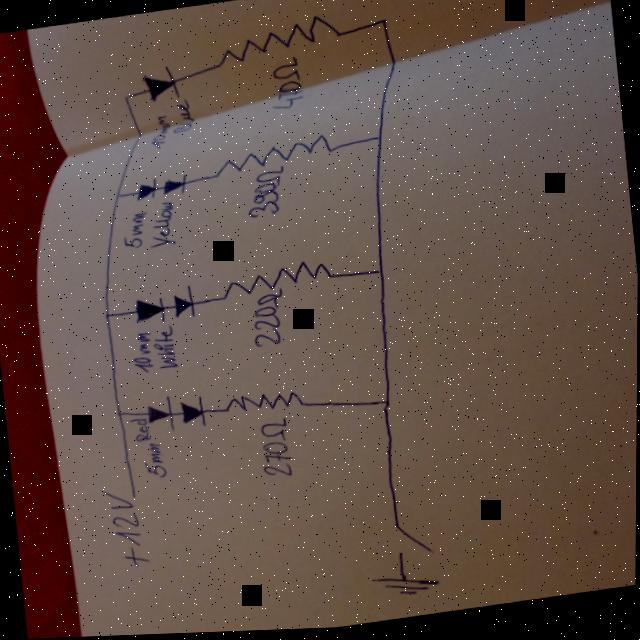diode: (140, 65, 180, 104), (144, 395, 177, 437), (177, 396, 207, 432), (133, 296, 166, 327), (171, 285, 197, 321), (160, 174, 189, 198), (133, 178, 158, 203)
ground: (370, 571, 443, 604)
junction: (373, 394, 399, 416), (368, 266, 390, 283), (372, 16, 391, 34), (369, 131, 389, 148), (114, 411, 123, 419), (113, 193, 123, 200), (102, 312, 111, 319), (120, 94, 129, 101)
resistor: (212, 13, 343, 70), (215, 136, 340, 176), (220, 258, 332, 301), (222, 386, 306, 420)
switch: (392, 521, 435, 562)
terminal: (128, 490, 140, 500)
text: (100, 485, 152, 573), (247, 289, 289, 350), (257, 418, 296, 482), (241, 168, 288, 221), (265, 60, 307, 115), (145, 202, 176, 250), (150, 324, 180, 372), (118, 212, 150, 252), (140, 441, 169, 482), (129, 331, 155, 376), (168, 98, 195, 135), (146, 114, 171, 151), (127, 416, 153, 444)
